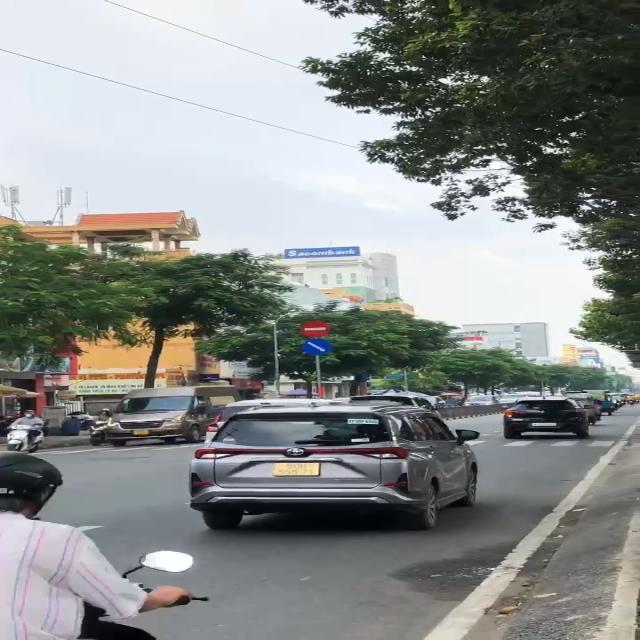Bien bao cam di nguoc chieu: (300, 320, 332, 338)
Bien bao huong phai di vong chuong ngai vat: (298, 338, 338, 356)
